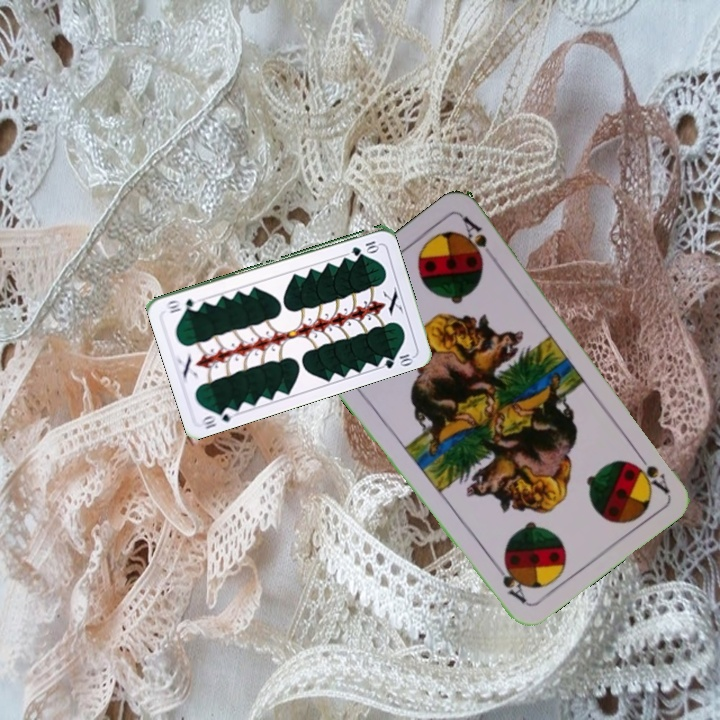G10: (198, 403, 238, 431), (347, 237, 381, 257)
SA: (630, 445, 672, 496)
